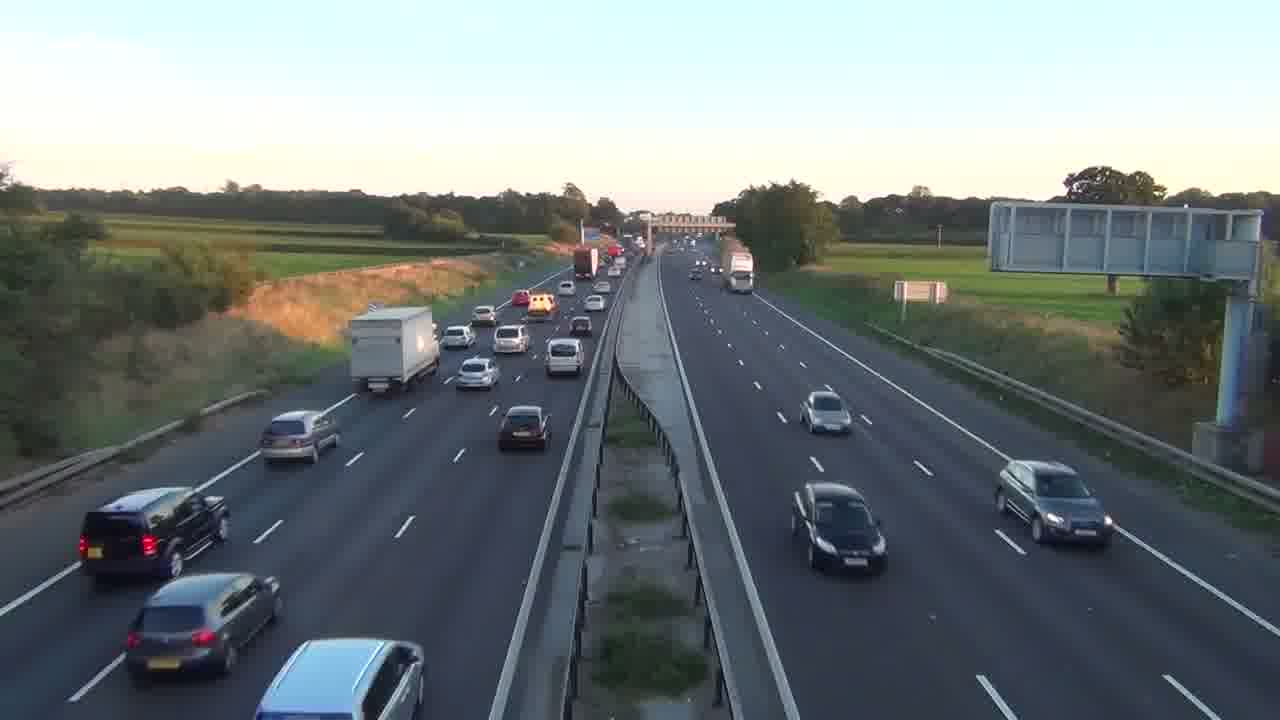car: (124, 571, 283, 681), (76, 486, 230, 582), (253, 635, 427, 718), (993, 458, 1115, 549), (791, 480, 889, 575), (799, 387, 852, 435), (498, 403, 550, 451), (454, 356, 501, 391), (545, 337, 583, 376), (441, 324, 476, 350), (568, 316, 593, 337)
truck: (350, 306, 441, 395), (258, 408, 340, 464)
